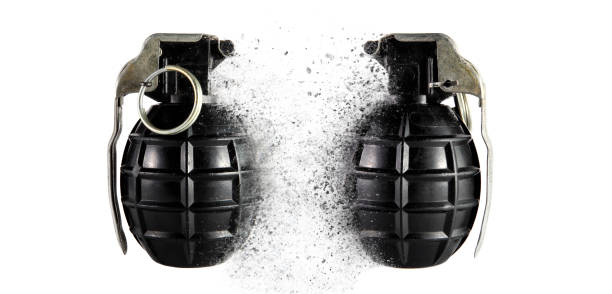e1: (335, 28, 495, 269), (104, 26, 260, 269)
